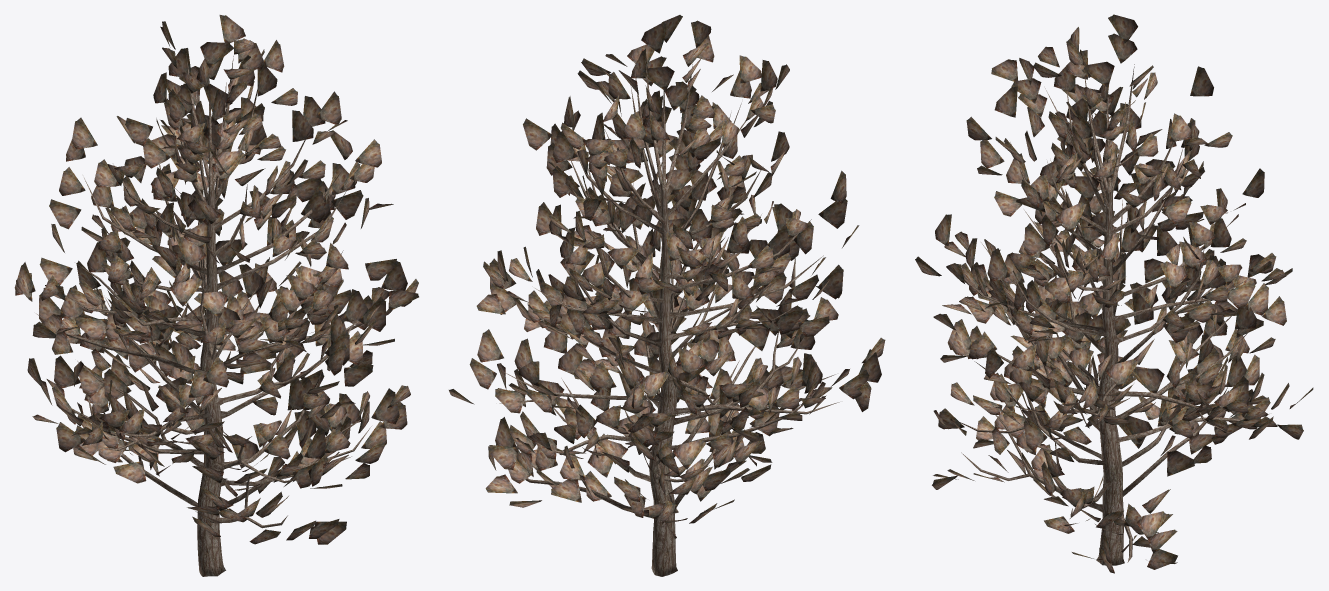
Rendered from defaultdouglasfiryoung.glb.
3 renders of one model, left to right at view 1: azimuth 30°, elevation 25°; view 2: azimuth 150°, elevation 25°; view 3: azimuth 270°, elevation 25°, orthographic. The views are drawn at different scales.
Visible parts, largest first — view 1: DefaultDouglasFirYoung; view 2: DefaultDouglasFirYoung; view 3: DefaultDouglasFirYoung.
Part boxes in pixels (x1,y1,x2,y2): DefaultDouglasFirYoung: [14, 15, 418, 576]; DefaultDouglasFirYoung: [449, 15, 885, 576]; DefaultDouglasFirYoung: [915, 14, 1313, 573].
Size of the model in its own units: 10.37 by 14.48 by 9.98.
Materials: 4 (4 with a texture image).
